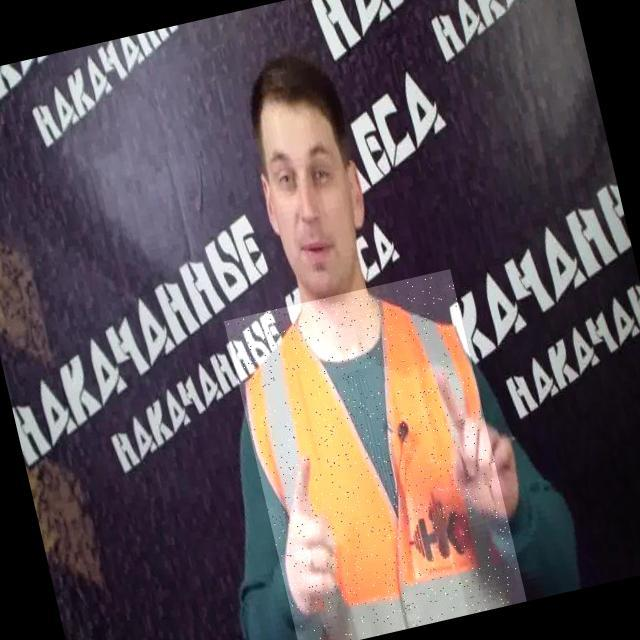Person: (205, 38, 595, 640)
Safety Vest: (223, 268, 526, 640)
bare-arms: (430, 361, 524, 523), (280, 437, 350, 628)
no-helmet: (246, 51, 352, 133)
